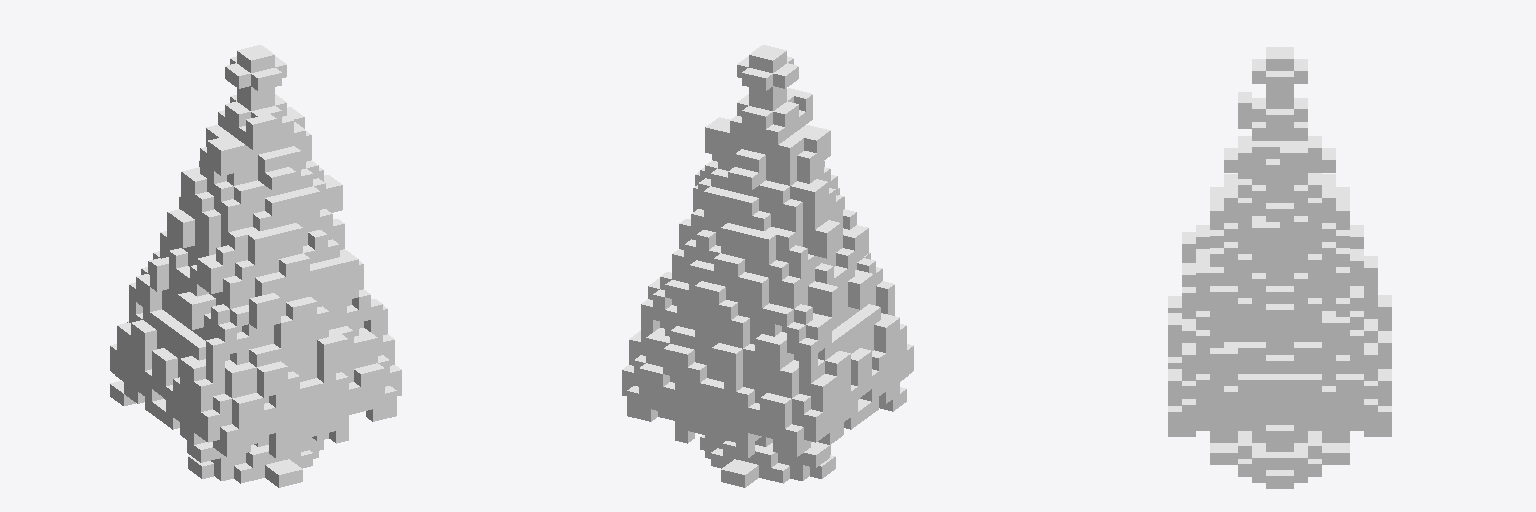
The model's file is christmas_tree.obj.
3 renders of one model, left to right at view 1: azimuth 30°, elevation 25°; view 2: azimuth 150°, elevation 25°; view 3: azimuth 270°, elevation 25°, orthographic.
Parts seen in each view (by area): view 1: object 1; view 2: object 1; view 3: object 1.
Boxes of the visible parts, x1=… form: object 1: x1=110, y1=45, x2=401, y2=487; object 1: x1=622, y1=45, x2=913, y2=487; object 1: x1=1168, y1=47, x2=1391, y2=488.
Size of the model in its own units: 1.6 by 3.2 by 1.6.